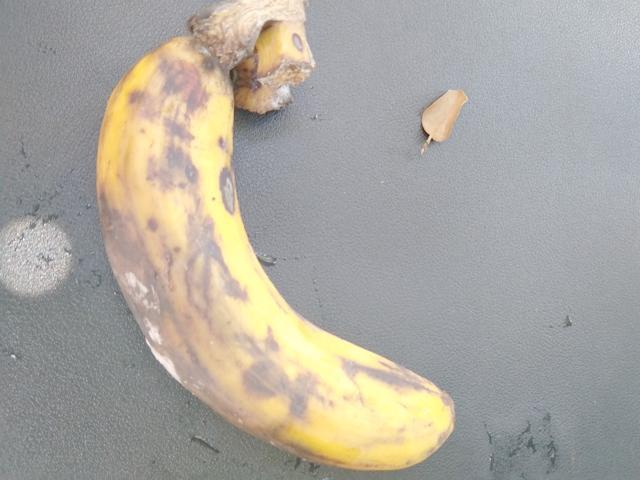overripe: (125, 30, 481, 479)
rotten: (75, 182, 355, 479)
